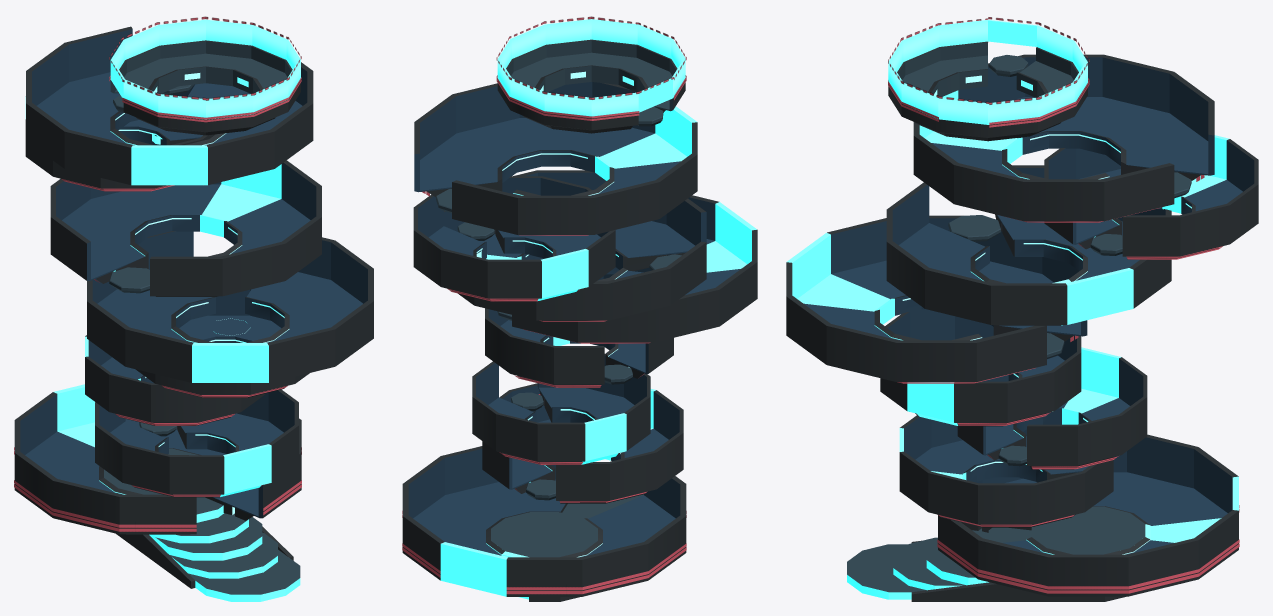
Rendered from Aero_Station_01_Art.glb.
The picture shows the model from 3 angles, left to right: view 1: azimuth 30°, elevation 25°; view 2: azimuth 150°, elevation 25°; view 3: azimuth 270°, elevation 25°; orthographic projection. The views are drawn at different scales.
Visible parts, largest first — view 1: Aero_Station_01_Art; view 2: Aero_Station_01_Art; view 3: Aero_Station_01_Art.
Part boxes in pixels (x1,y1,x2,y2): Aero_Station_01_Art: [14, 16, 373, 601]; Aero_Station_01_Art: [402, 16, 757, 601]; Aero_Station_01_Art: [786, 17, 1258, 601].
Bounding box in the file's own units: 15.32 × 29.05 × 23.97.
Materials: 7 (3 with a texture image).
